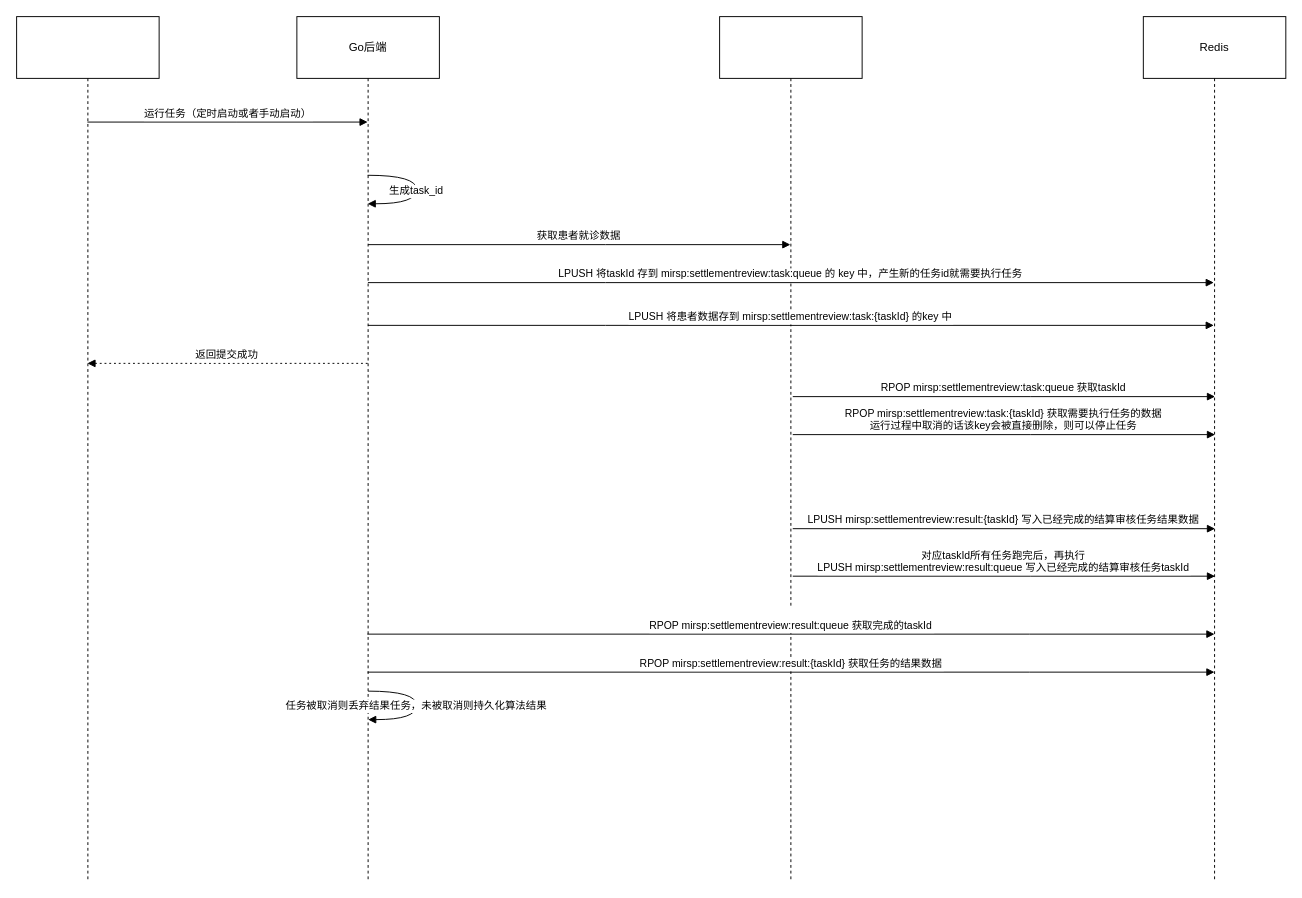
This 1302x898 diagram has some shape labels left out. The shapes that lost their labels are listed below. From the top down, each one's box as (x1, y1, x2, y2) in pixels, then its label:
(16, 16, 159, 881): 前端
(719, 16, 862, 881): 算法服务
